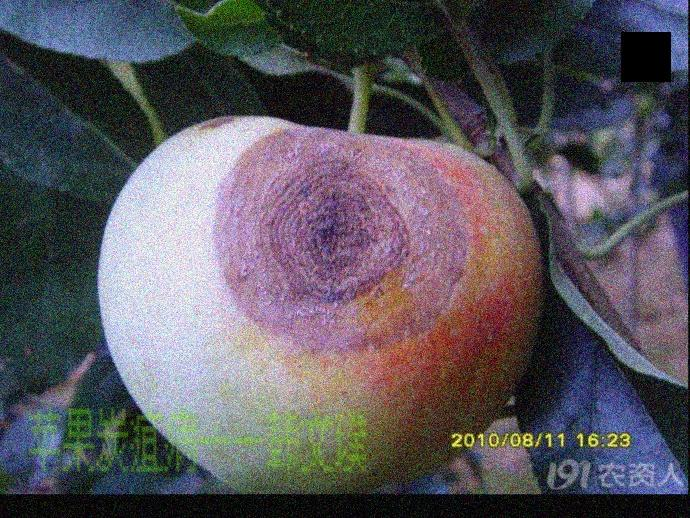rotten apple: (92, 91, 552, 494)
